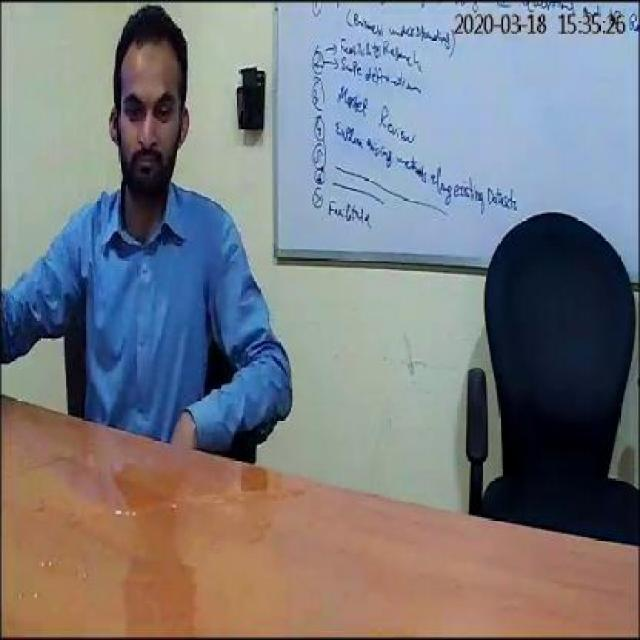spill: (46, 455, 309, 520)
